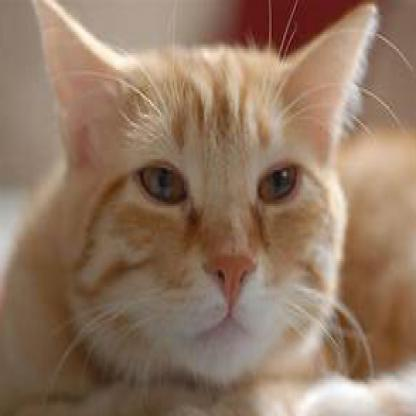cat: (1, 0, 378, 384)
